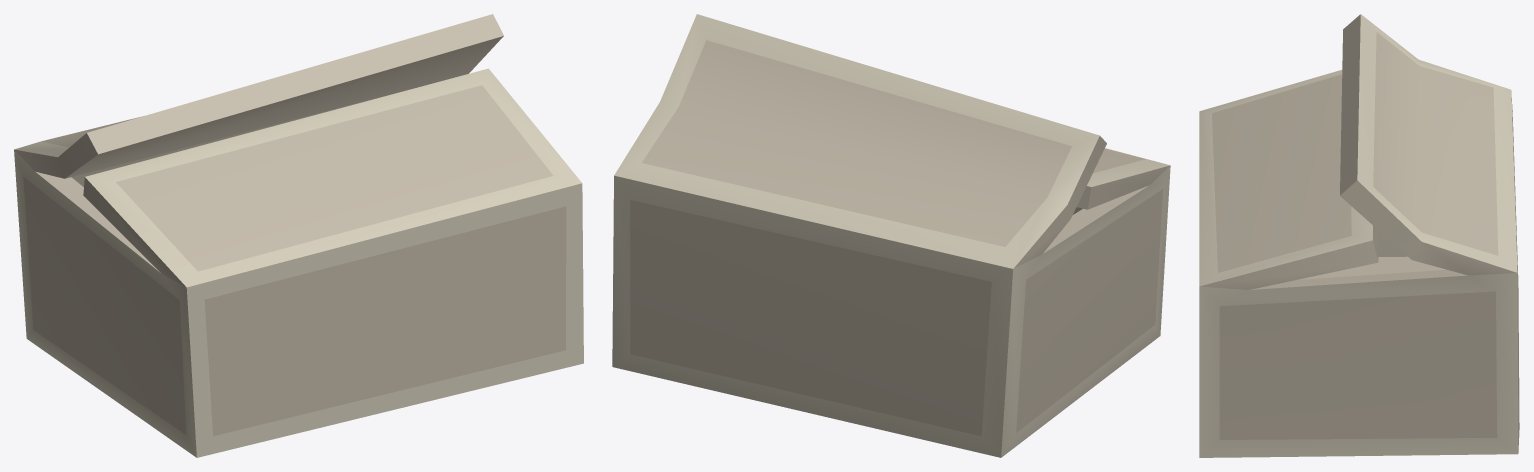
File: BoxC.glb
3 renders of one model, left to right at view 1: azimuth 30°, elevation 25°; view 2: azimuth 150°, elevation 25°; view 3: azimuth 270°, elevation 25°, orthographic. The views are drawn at different scales.
Parts seen in each view (by area): view 1: BoxC; view 2: BoxC; view 3: BoxC.
Boxes of the visible parts, bbox=[...] form: BoxC: bbox=[14, 14, 583, 457]; BoxC: bbox=[612, 14, 1170, 457]; BoxC: bbox=[1199, 14, 1519, 457].
Size of the model in its own units: 0.7277 by 0.4866 by 0.5146.
